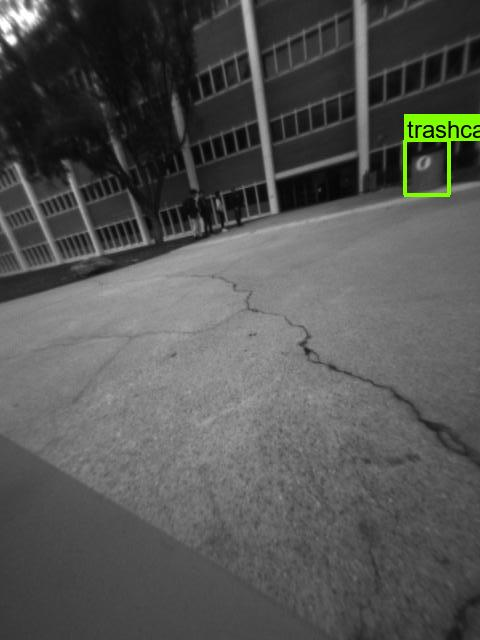trashcan: (406, 140, 446, 194)
